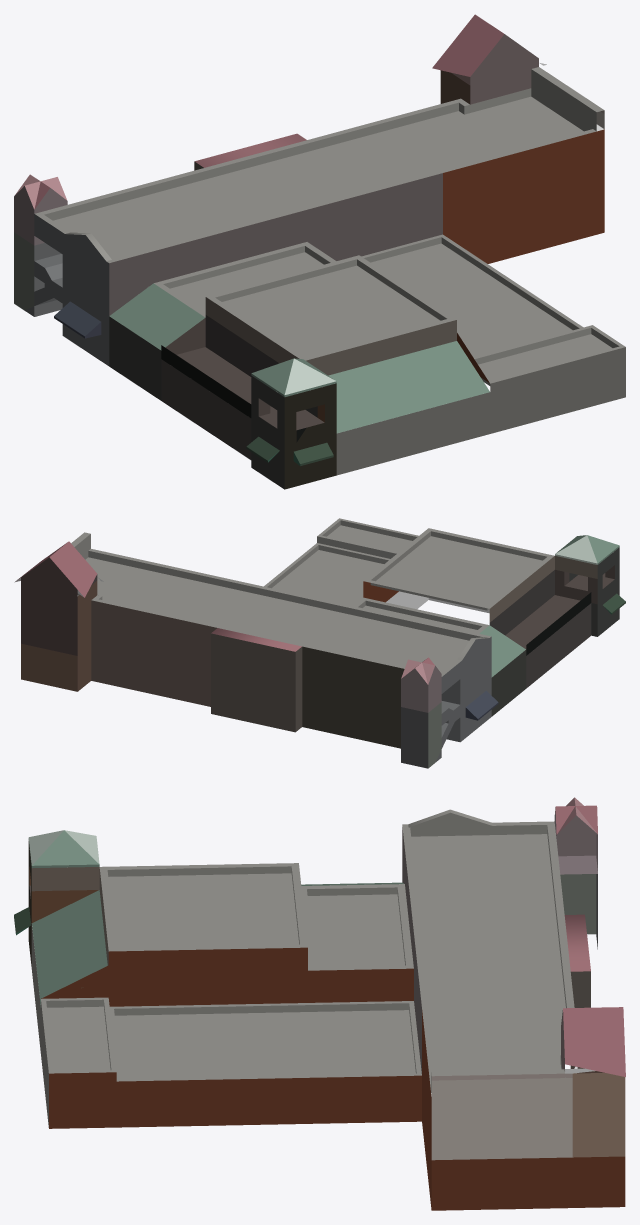
The model's file is 200-market-street.glb.
The picture shows the model from 3 angles, top to bottom: view 1: azimuth 30°, elevation 25°; view 2: azimuth 150°, elevation 25°; view 3: azimuth 270°, elevation 25°; orthographic projection. The views are drawn at different scales.
Parts seen in each view (by area): view 1: Geom3D (×2); view 2: Geom3D (×2), Geom3D_; view 3: Geom3D.
Part boxes in pixels (left/top/right/bottom): Geom3D (×2): left=14, top=14, right=625, bottom=489; Geom3D (×2): left=14, top=518, right=625, bottom=768; Geom3D_: left=77, top=577, right=489, bottom=613; Geom3D: left=14, top=797, right=625, bottom=1210.
Size of what is drawn, in the model's own units: 40.46 by 11.98 by 36.7.
Materials: 2 (2 with a texture image).
